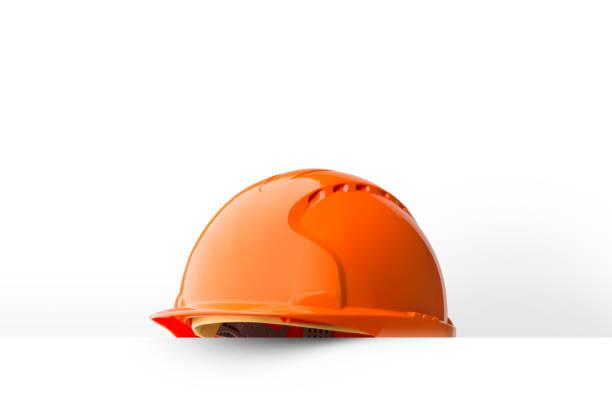helmet: (139, 143, 497, 356)
